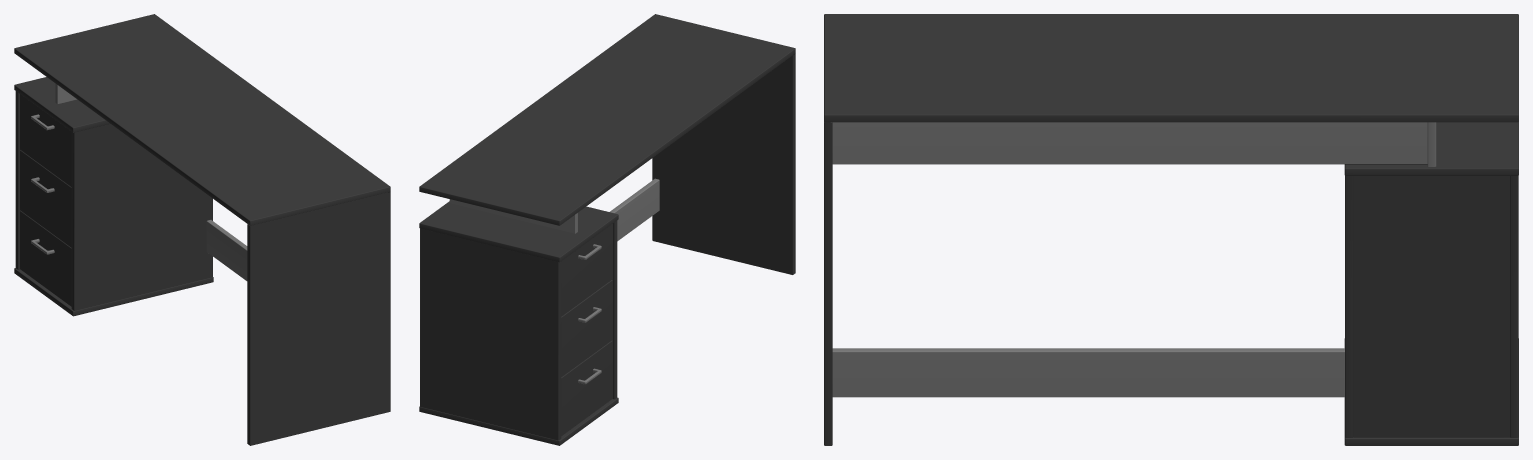
Rendered from scene_bank_desk_01.fbx.
3 renders of one model, left to right at view 1: azimuth 30°, elevation 25°; view 2: azimuth 150°, elevation 25°; view 3: azimuth 270°, elevation 25°, orthographic. The views are drawn at different scales.
Parts seen in each view (by area): view 1: Desk.001; view 2: Desk.001; view 3: Desk.001.
Part boxes in pixels (x1,y1,x2,y2): Desk.001: [14, 14, 390, 445]; Desk.001: [419, 14, 795, 445]; Desk.001: [824, 14, 1518, 445].
Bounding box in the file's own units: 56.77 × 84.02 × 160.
